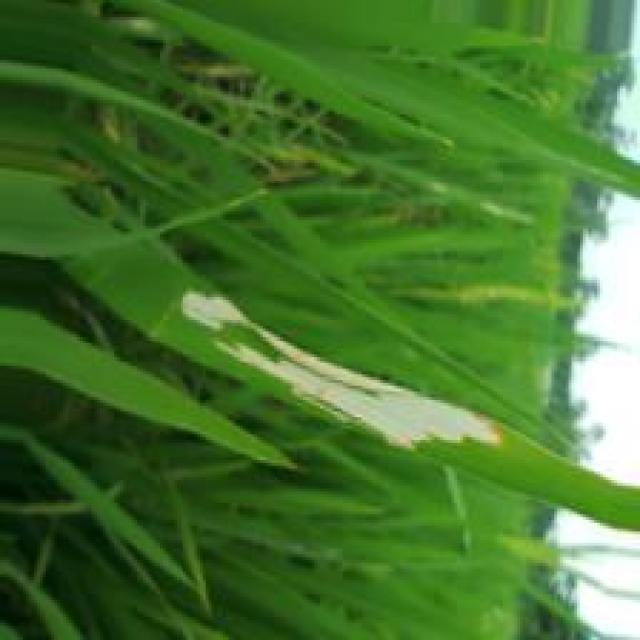Rice_Hispa: (178, 293, 508, 448)
